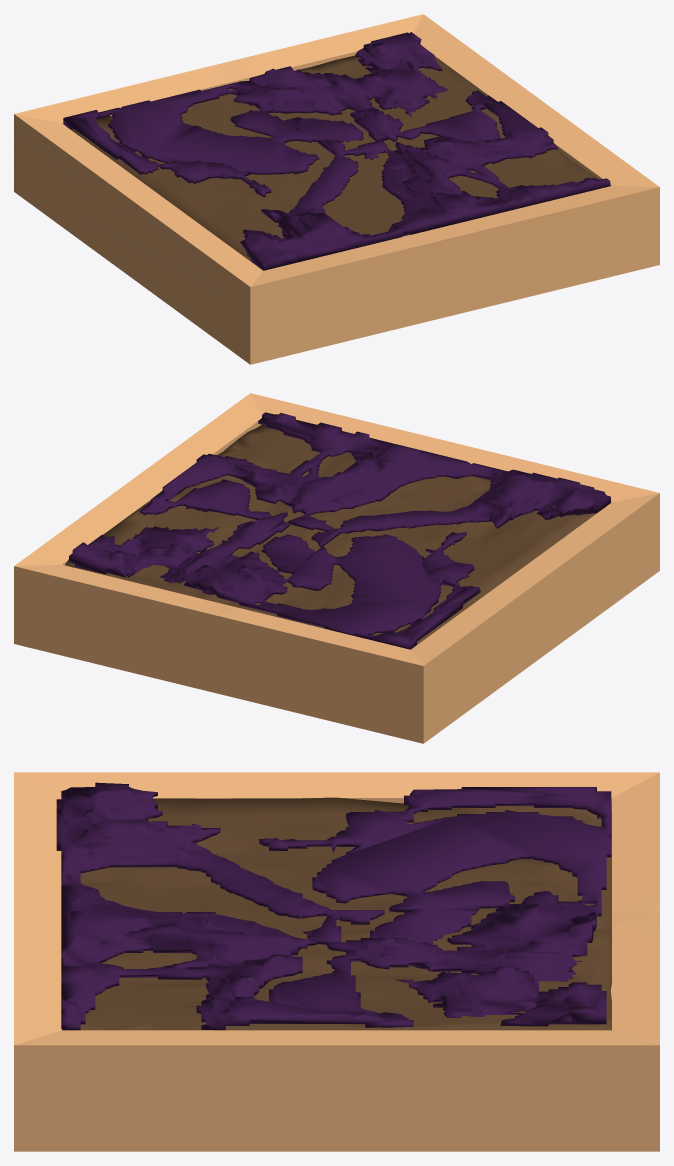
The model's file is planterbox Infected.fbx.
The picture shows the model from 3 angles, top to bottom: view 1: azimuth 30°, elevation 25°; view 2: azimuth 150°, elevation 25°; view 3: azimuth 270°, elevation 25°; orthographic projection. The views are drawn at different scales.
Parts seen in each view (by area): view 1: Cube, Cube.001; view 2: Cube, Cube.001; view 3: Cube, Cube.001.
Boxes of the visible parts, <box> form: Cube: <box>14,14,659,364</box>; Cube.001: <box>63,32,610,270</box>; Cube: <box>14,393,659,743</box>; Cube.001: <box>69,412,610,649</box>; Cube: <box>14,772,659,1151</box>; Cube.001: <box>56,782,611,1030</box>.
Size of the model in its own units: 1095 by 227 by 1095.
